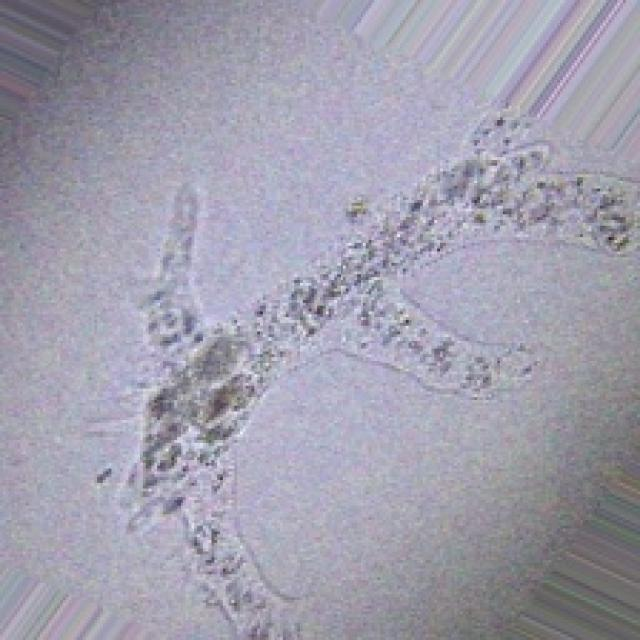Amoeba: (112, 100, 637, 637)
